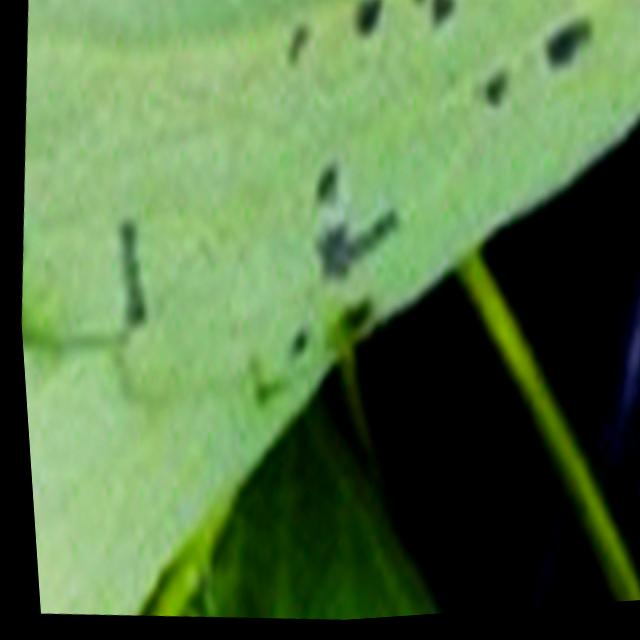Angular Leafspot: (92, 0, 640, 412)
